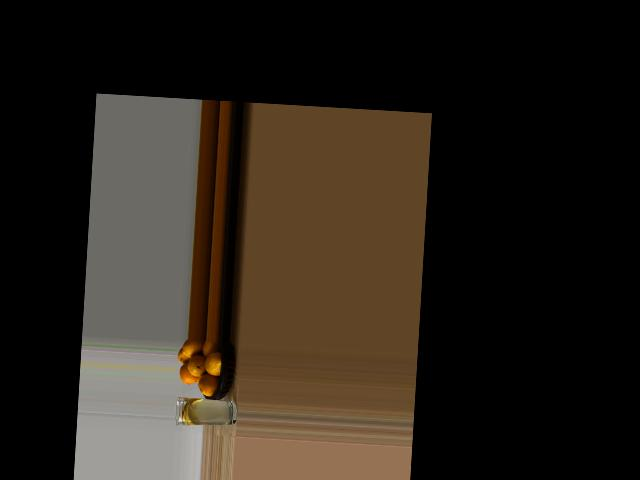lemon: (179, 338, 205, 360)
